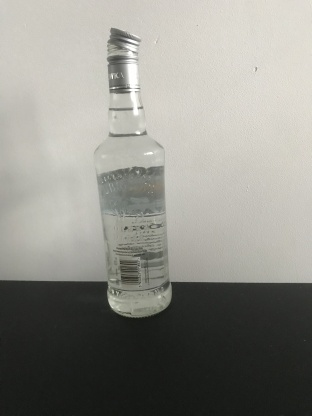nakretka: (105, 25, 143, 93)
